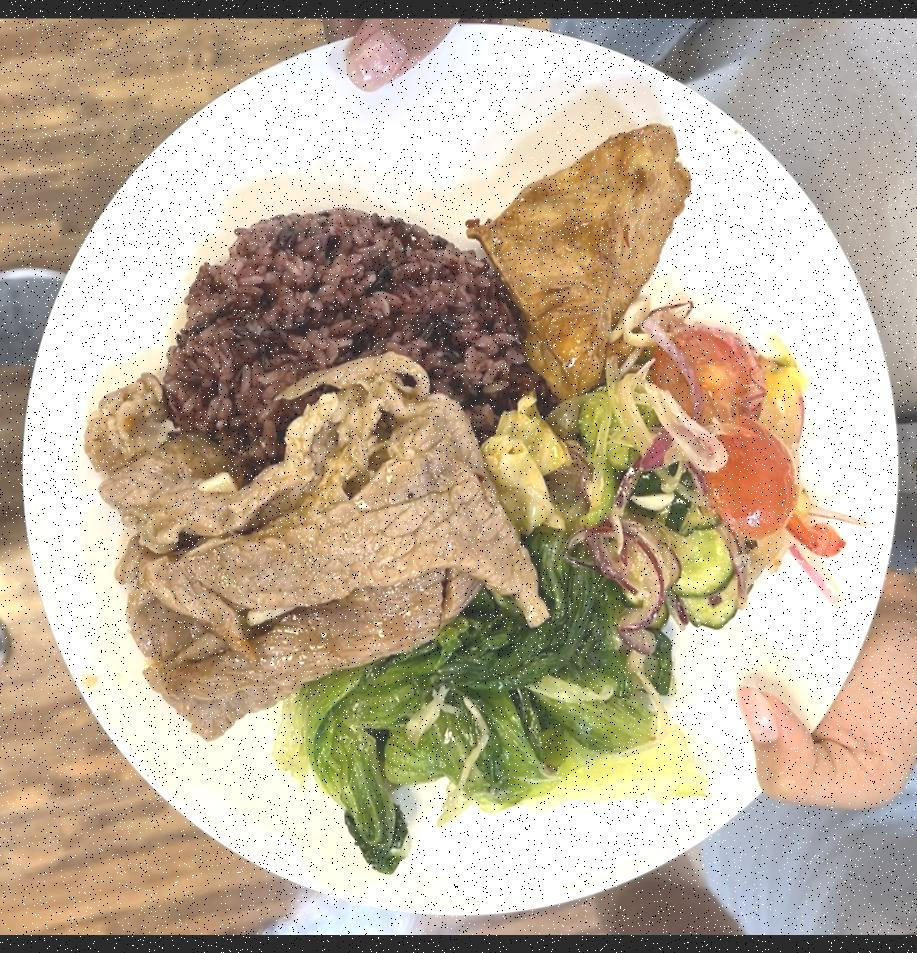plate: (20, 27, 884, 930)
purple rice: (165, 202, 528, 511)
sauteed pork: (86, 358, 548, 727)
side dish: (272, 551, 718, 860), (602, 316, 834, 674), (474, 123, 696, 406)
